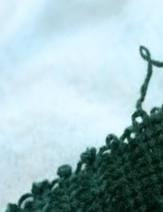snag: (131, 40, 162, 130)
